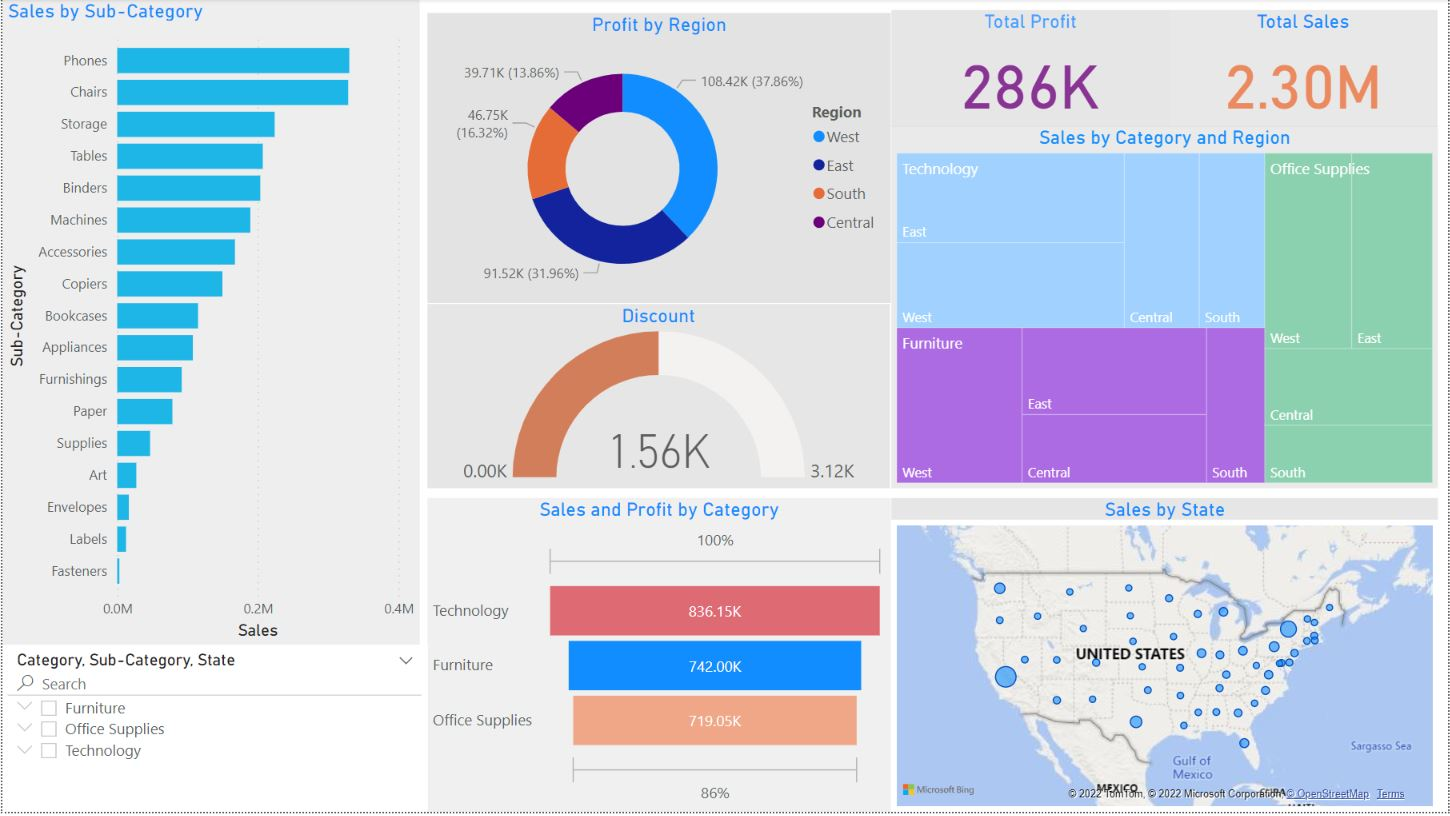

The dashboard page shown, as its layout file describes it:
{"tool":"powerbi","page":{"name":"SalesDashboard ","canvas":[1280,720],"ordinal":0},"visuals":[{"type":"clusteredBarChart","fields":{"Category":["Orders (2).Sub-Category"],"Y":["Sum(Orders (2).Sales)"]},"box":[0,0,369.6,571.9],"z":0},{"type":"card","title":"Total Sales","fields":{"Values":["Sum(Orders (2).Sales)"]},"box":[1032.9,9.7,238.3,103.1],"z":1},{"type":"card","title":"Total Profit","fields":{"Values":["Sum(Orders (2).Profit)"]},"box":[786.9,9.7,246.1,103.1],"z":2},{"type":"donutChart","fields":{"Y":["Sum(Orders (2).Profit)"],"Category":["Orders (2).Region"]},"box":[376.4,12.6,410.5,256.8],"z":3},{"type":"funnel","fields":{"Category":["Orders (2).Category","Orders (2).Region","Orders (2).Sub-Category"],"Y":["Sum(Orders (2).Sales)"]},"box":[376.4,441.6,410.5,278.2],"z":4},{"type":"map","fields":{"Category":["Orders (2).State"],"Size":["Sum(Orders (2).Sales)"]},"box":[786.9,441.6,484.4,278.2],"z":5},{"type":"treemap","fields":{"Group":["Orders (2).Category","Orders (2).City"],"Details":["Orders (2).Region"],"Values":["Sum(Orders (2).Sales)"]},"box":[786.9,112.8,484.4,321],"z":6},{"type":"gauge","fields":{"Y":["Sum(Orders (2).Discount)"]},"box":[376.4,270.4,409.5,163.4],"z":7},{"type":"slicer","fields":{"Values":["Orders (2).Category","Orders (2).Sub-Category","Orders (2).State"]},"box":[0,571.9,376.4,147.8],"z":8}]}

Visuals, with their boxes in screenshot pixels (x1, y1, x2, y2), scaled from the page's 1280x720 canvas onto the 1450x816 screenshot:
clusteredBarChart - Orders (2).Sub-Category x Sum(Orders (2).Sales): detection(0, 0, 419, 648)
"Total Sales" card: detection(1170, 11, 1440, 128)
"Total Profit" card: detection(891, 11, 1170, 128)
donutChart - Sum(Orders (2).Profit) x Orders (2).Region: detection(426, 14, 891, 305)
funnel - Orders (2).Category x Orders (2).Region: detection(426, 500, 891, 815)
map - Orders (2).State x Sum(Orders (2).Sales): detection(891, 500, 1440, 815)
treemap - Orders (2).Category x Orders (2).City: detection(891, 128, 1440, 492)
gauge - Sum(Orders (2).Discount): detection(426, 306, 890, 492)
slicer - Orders (2).Category x Orders (2).Sub-Category: detection(0, 648, 426, 815)
